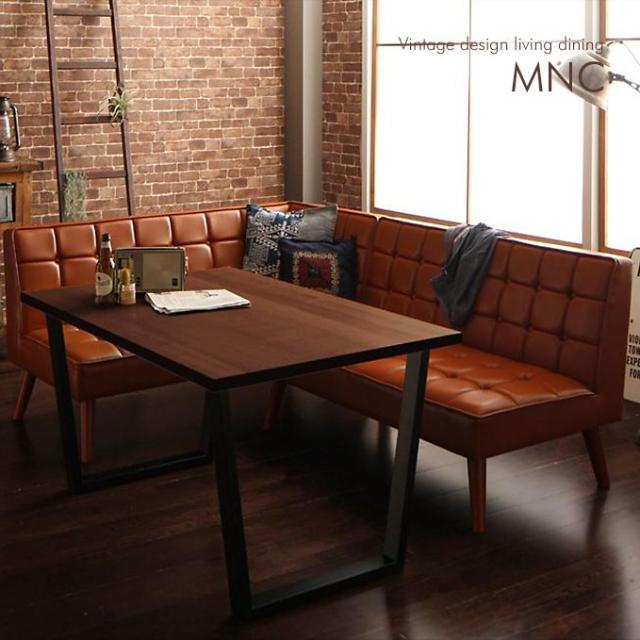vintage desk: (21, 261, 462, 626)
vintage sofa: (6, 202, 618, 534)
